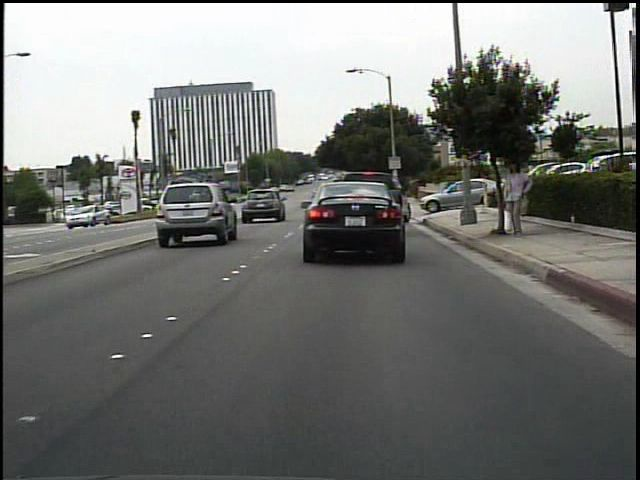person: (497, 157, 534, 240)
